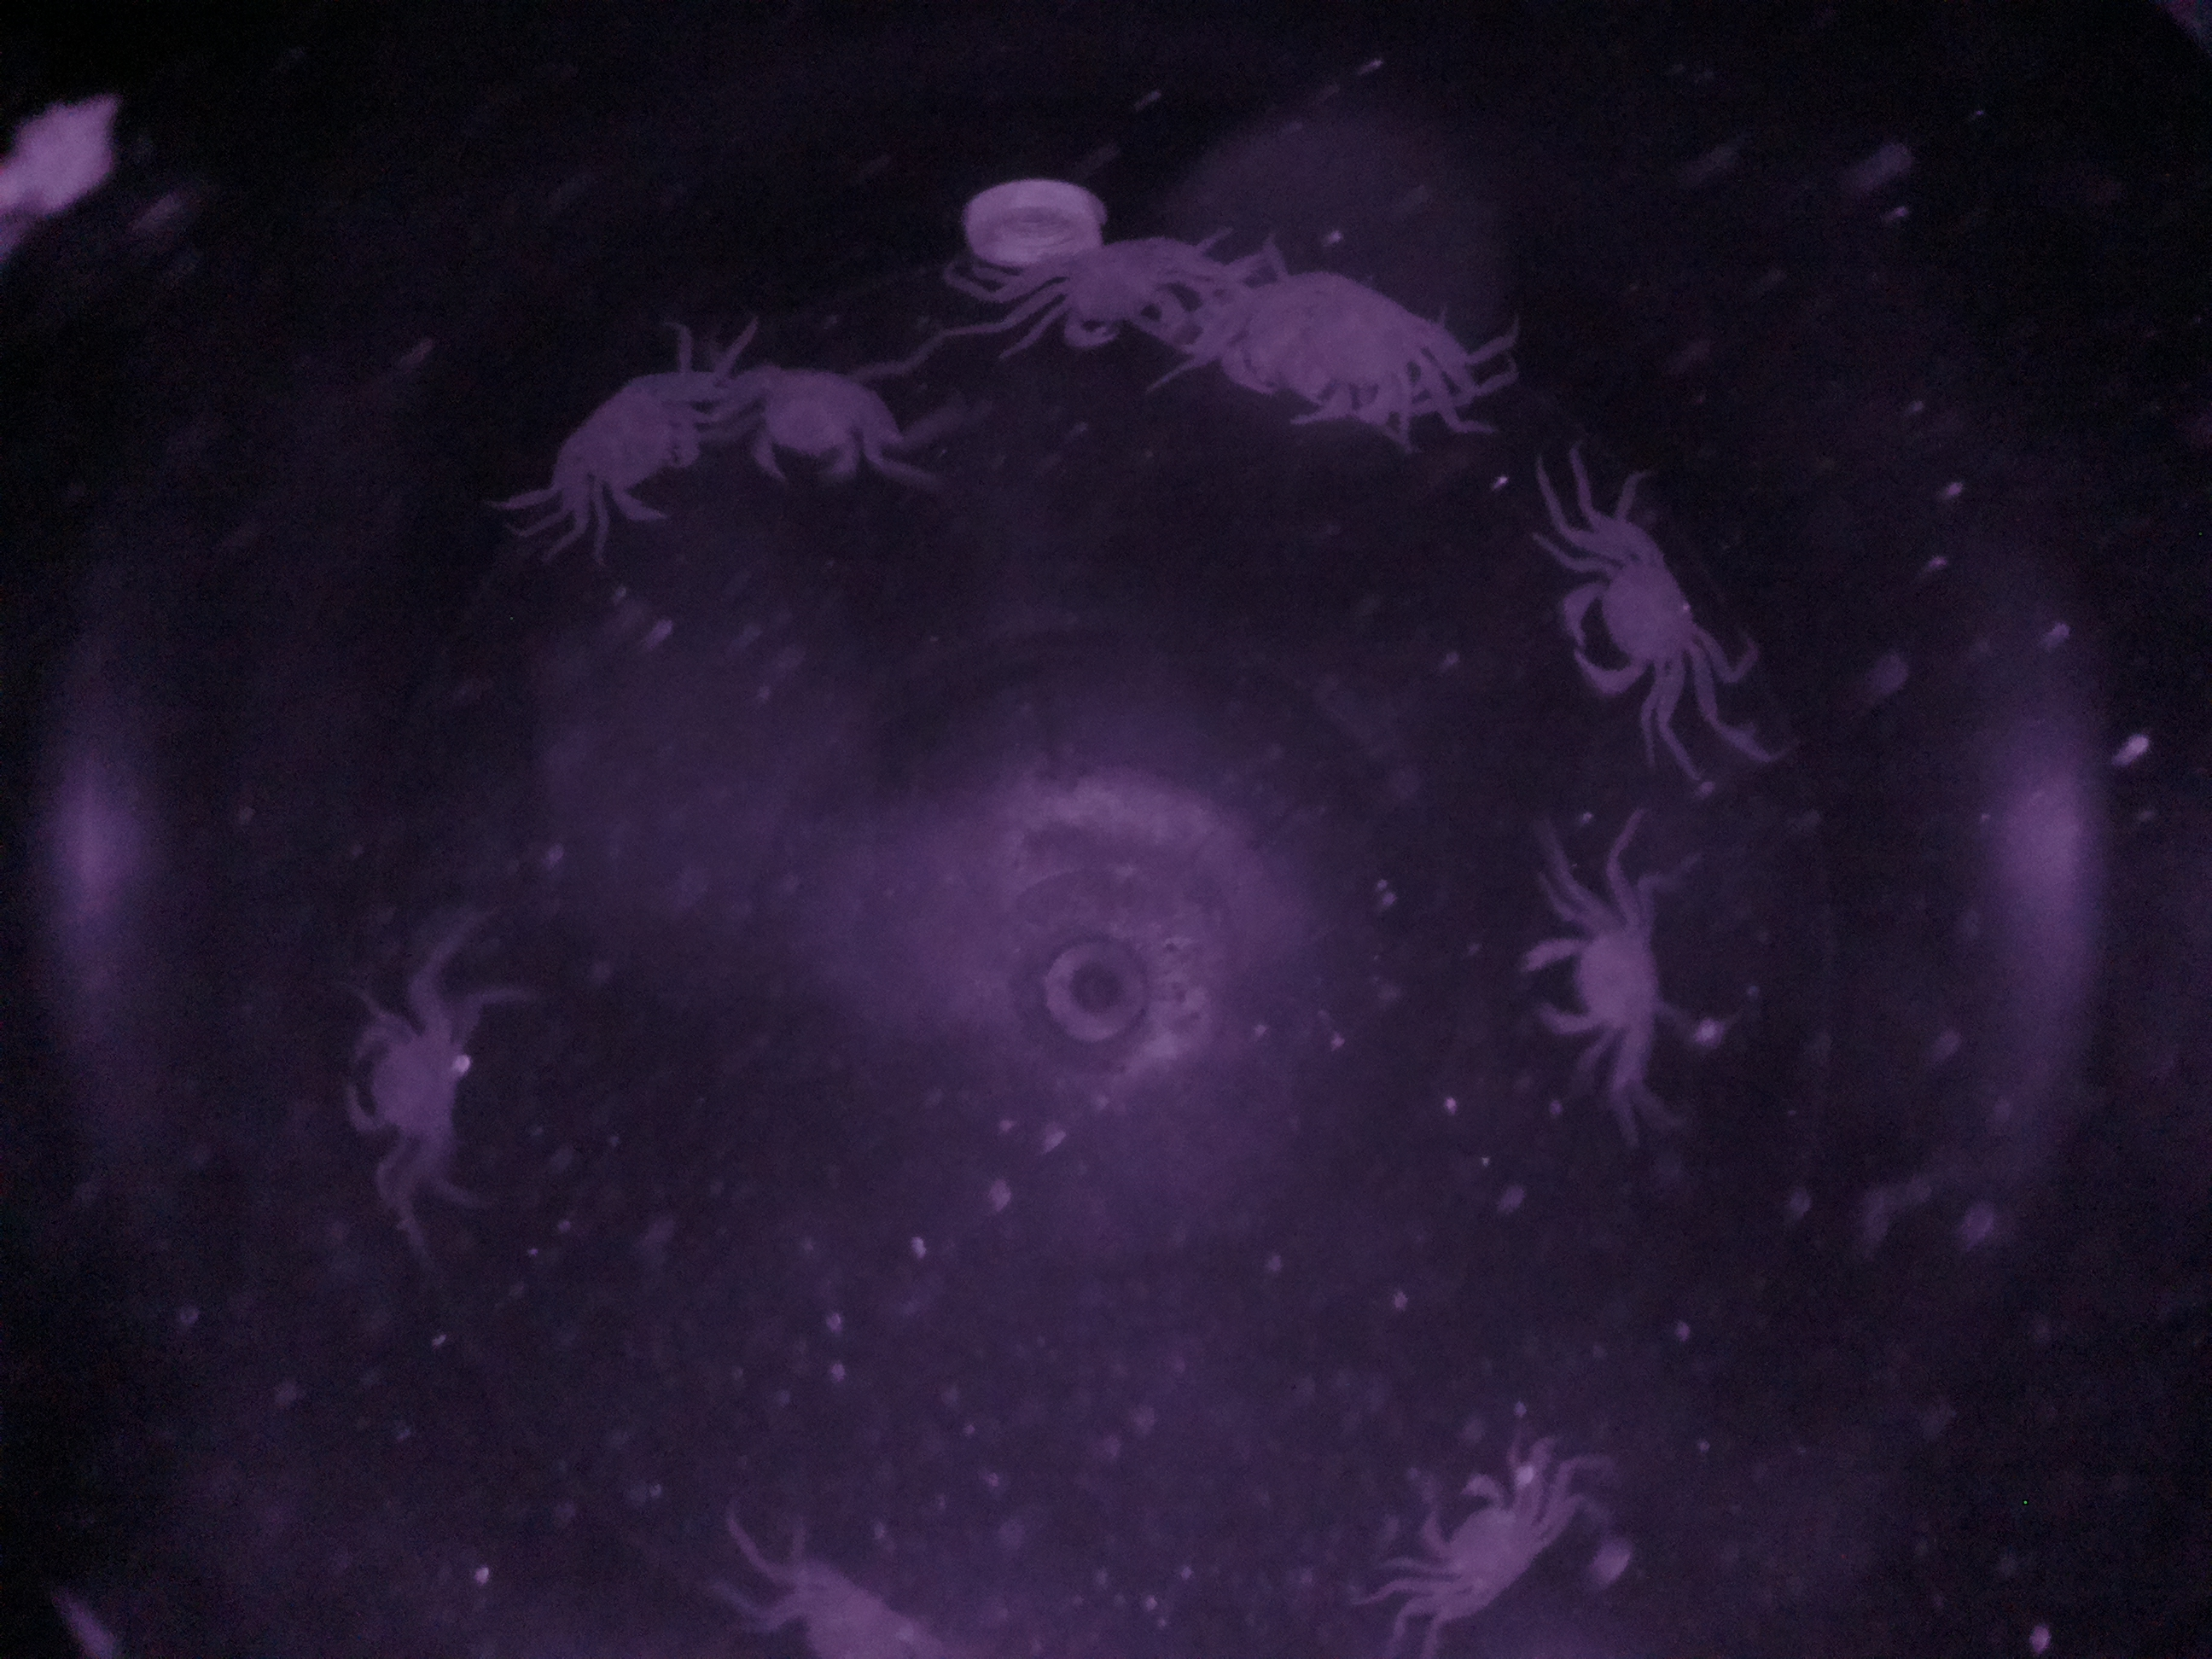Crab: (1536, 495, 1735, 746), (723, 336, 934, 526), (545, 347, 723, 544), (1014, 207, 1214, 380), (333, 967, 491, 1173), (1399, 1443, 1557, 1628)
